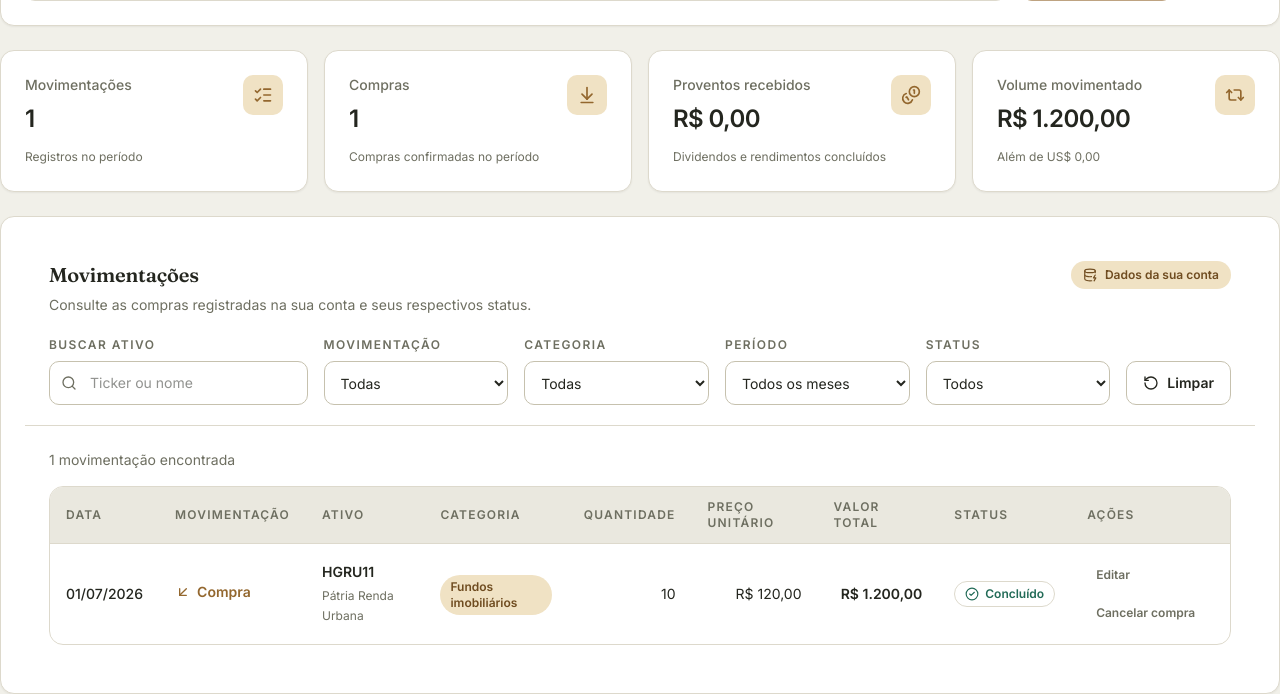
it: HistoryPage — cancelamento de compra › fecha a confirmação sem cancelar ao clicar em Voltar
(page scrolled)
Click the button "Cancelar compra". click: (1146, 613)
box: [1087,598,1204,628]
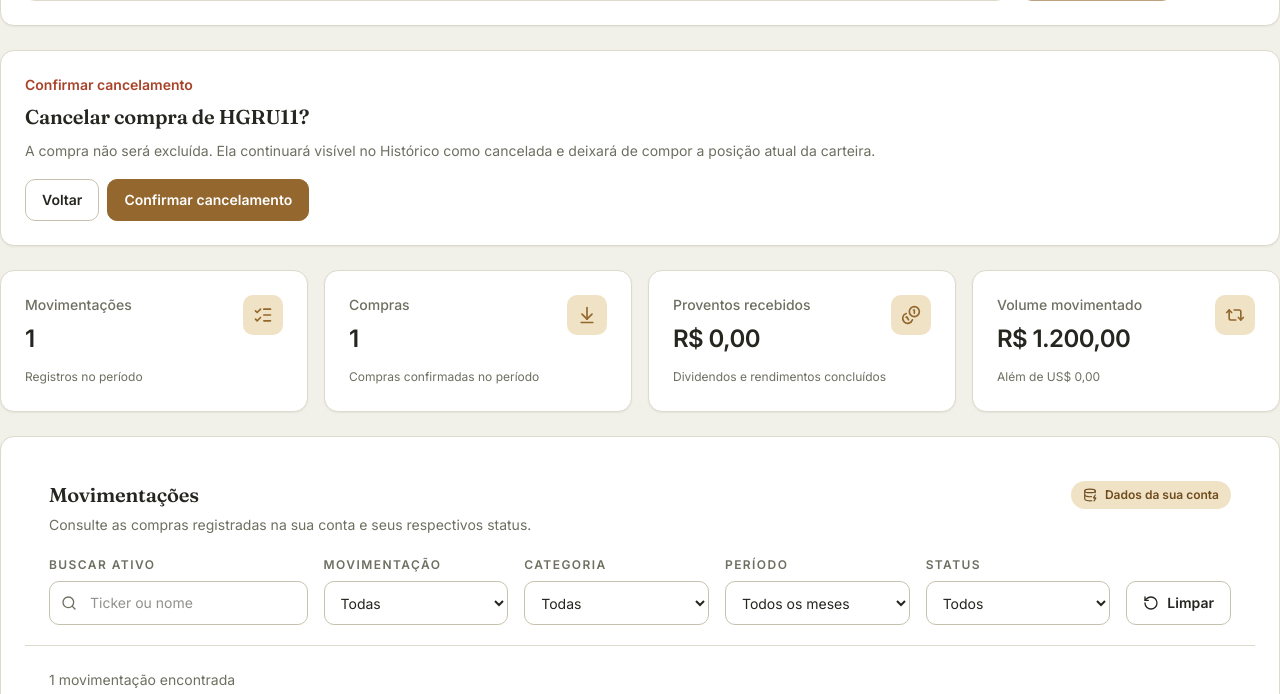
Click the button "Voltar". click: (62, 200)
box: [25,179,99,221]
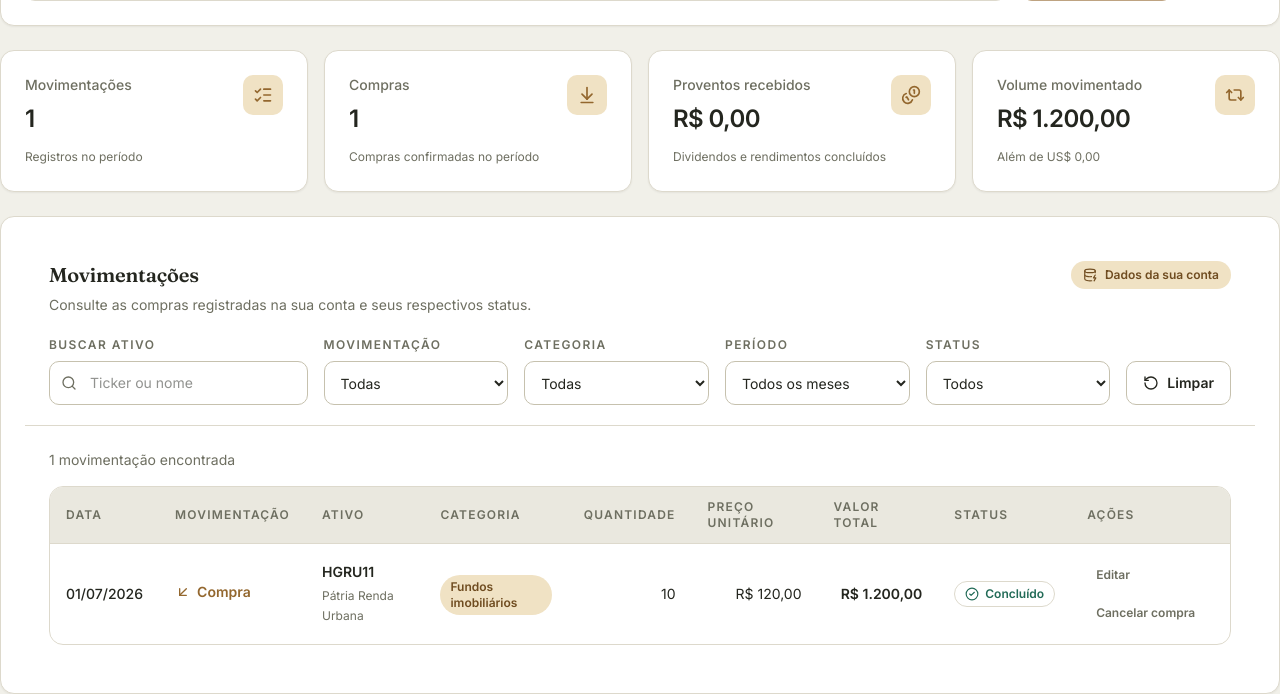
Result: the dialog is gone
